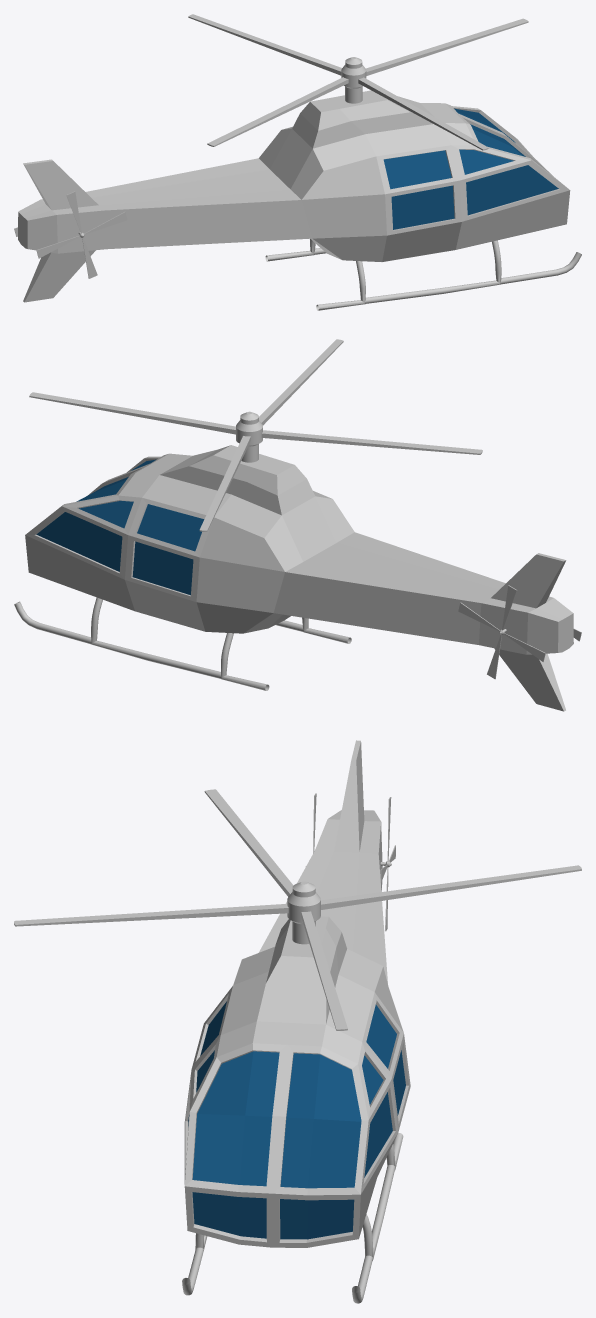
File: helicopter_animation_000111.obj
3 views of the same model, one above another, from view 1: azimuth 30°, elevation 25°; view 2: azimuth 150°, elevation 25°; view 3: azimuth 270°, elevation 25° (orthographic). The views are drawn at different scales.
Parts seen in each view (by area): view 1: Helicopter.007_Cylinder.008, Helicopter.001_Cylinder.001, Helicopter.004_Cylinder.005; view 2: Helicopter.007_Cylinder.008, Helicopter.001_Cylinder.001, Helicopter.003_Cylinder.004; view 3: Helicopter.007_Cylinder.008, Helicopter.001_Cylinder.001.
Boxes of the visible parts, x1,y1,x2,y2 form: Helicopter.007_Cylinder.008: (18,90,581,310); Helicopter.001_Cylinder.001: (188,14,528,150); Helicopter.004_Cylinder.005: (36,191,127,278); Helicopter.007_Cylinder.008: (14,445,573,711); Helicopter.001_Cylinder.001: (29,339,482,531); Helicopter.003_Cylinder.004: (458,585,545,679); Helicopter.007_Cylinder.008: (182,740,410,1303); Helicopter.001_Cylinder.001: (14,789,581,1030).
Bounding box in the file's own units: 7.55 × 3.2 × 5.44.
